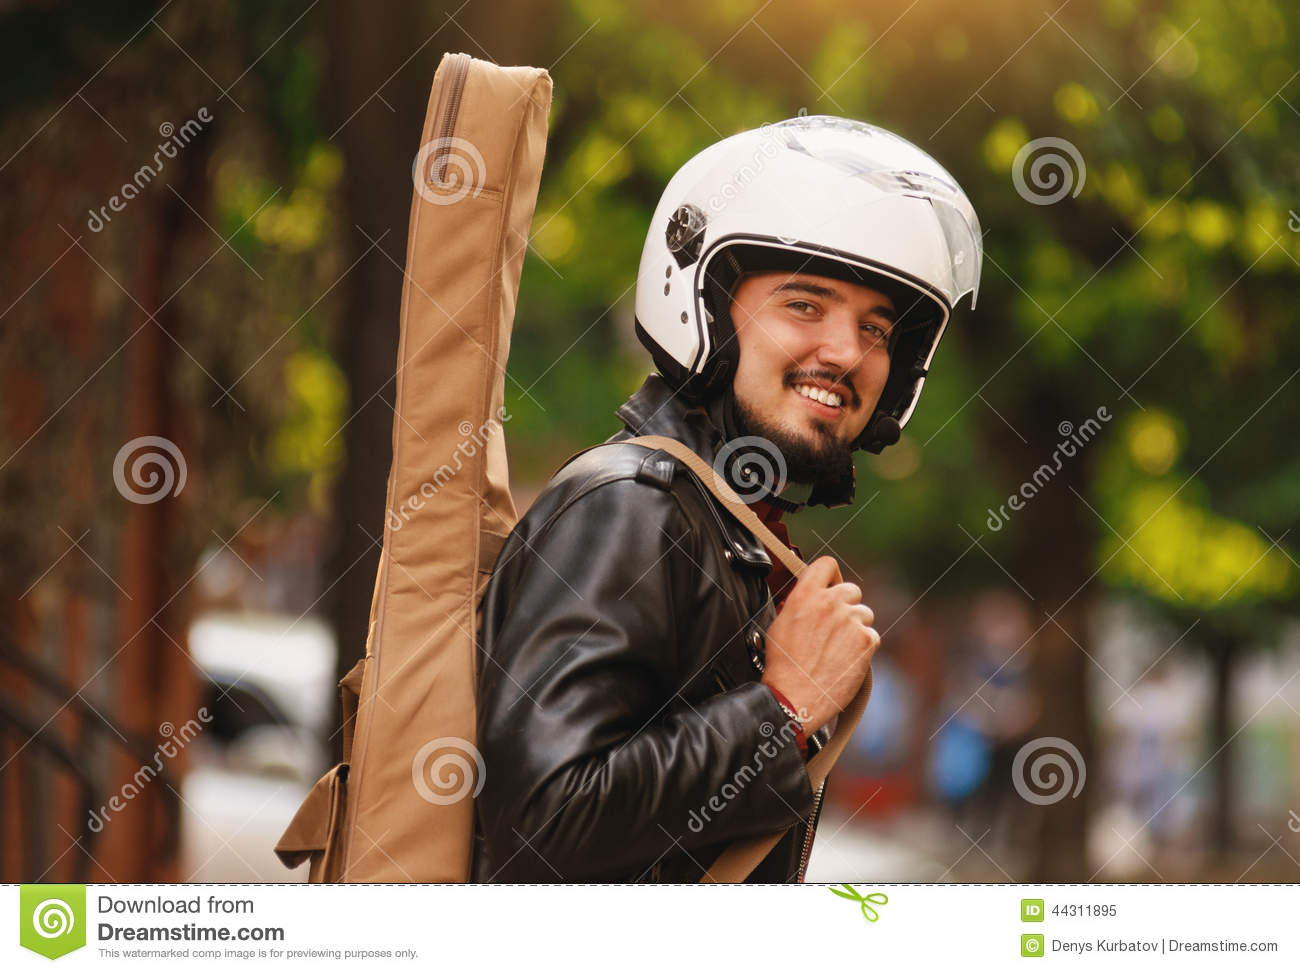helmet: (632, 129, 970, 393)
